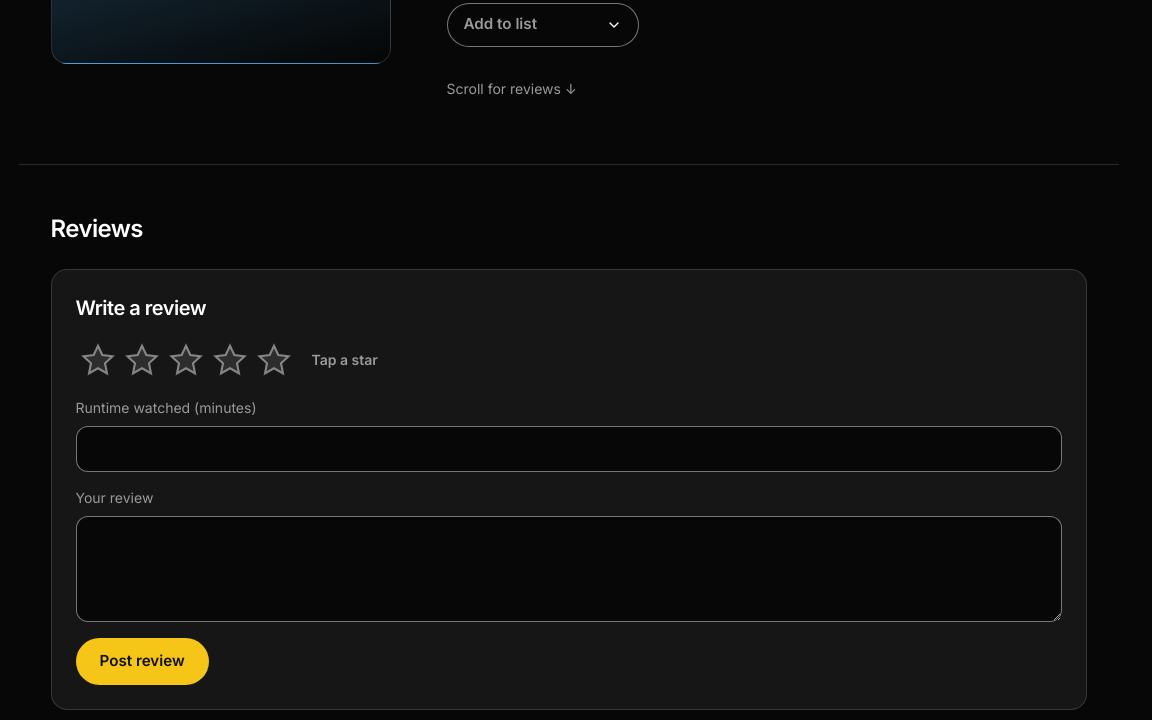
TitleDetail › posting a review replaces the empty state with the new review
The image size is (1152, 720).
(page scrolled)
Click the radio button named "5 stars" at (274, 360), box [256,342,292,378]
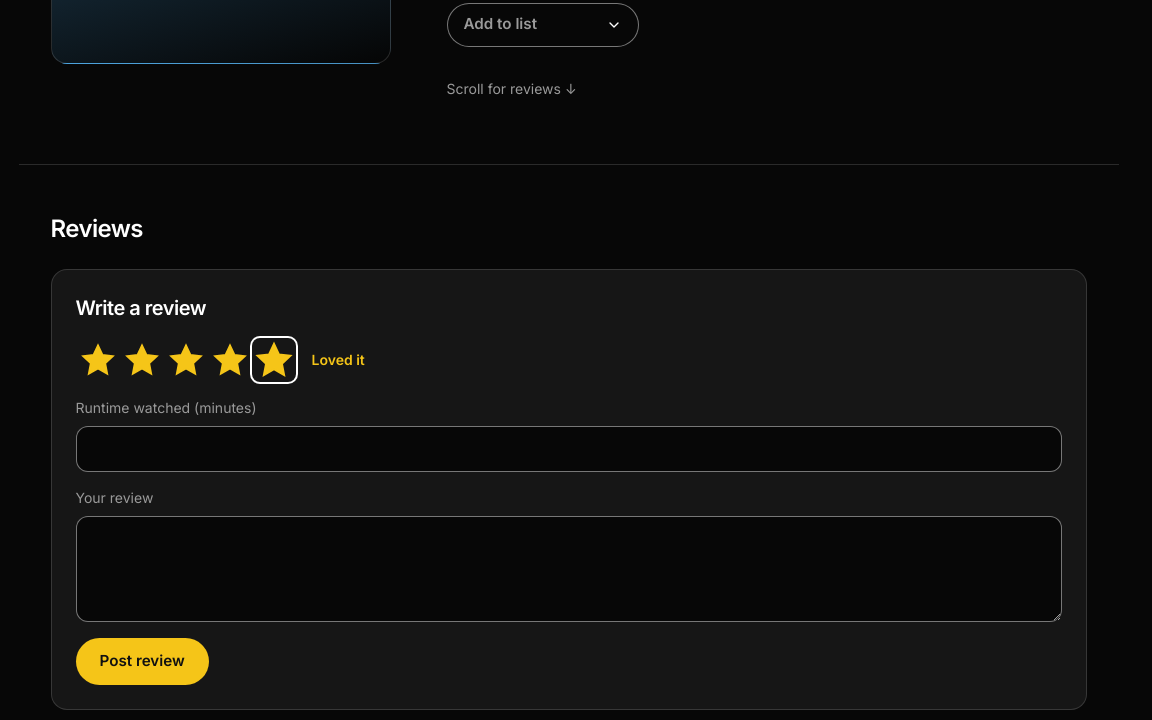
Type "A fresh take" into the text box labelled "Your review" at (568, 569), box [76,516,1062,622]
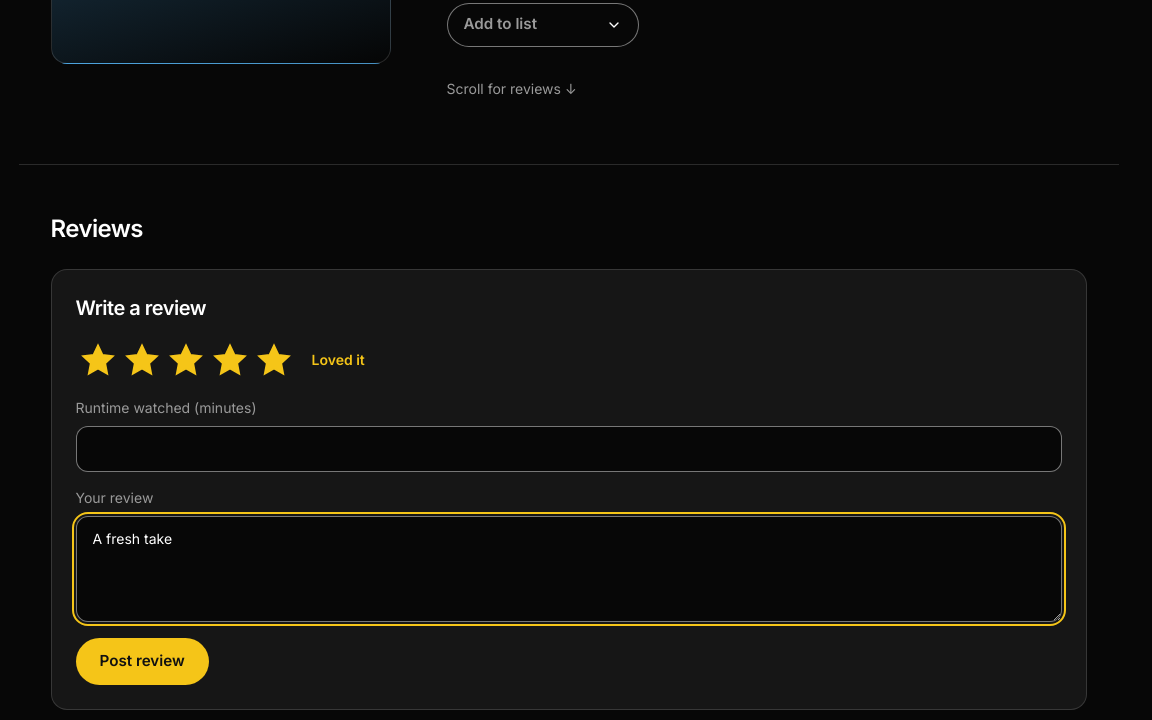
Type "3" into the field labelled "Runtime watched (minutes)" at (568, 449), box [76,426,1062,472]
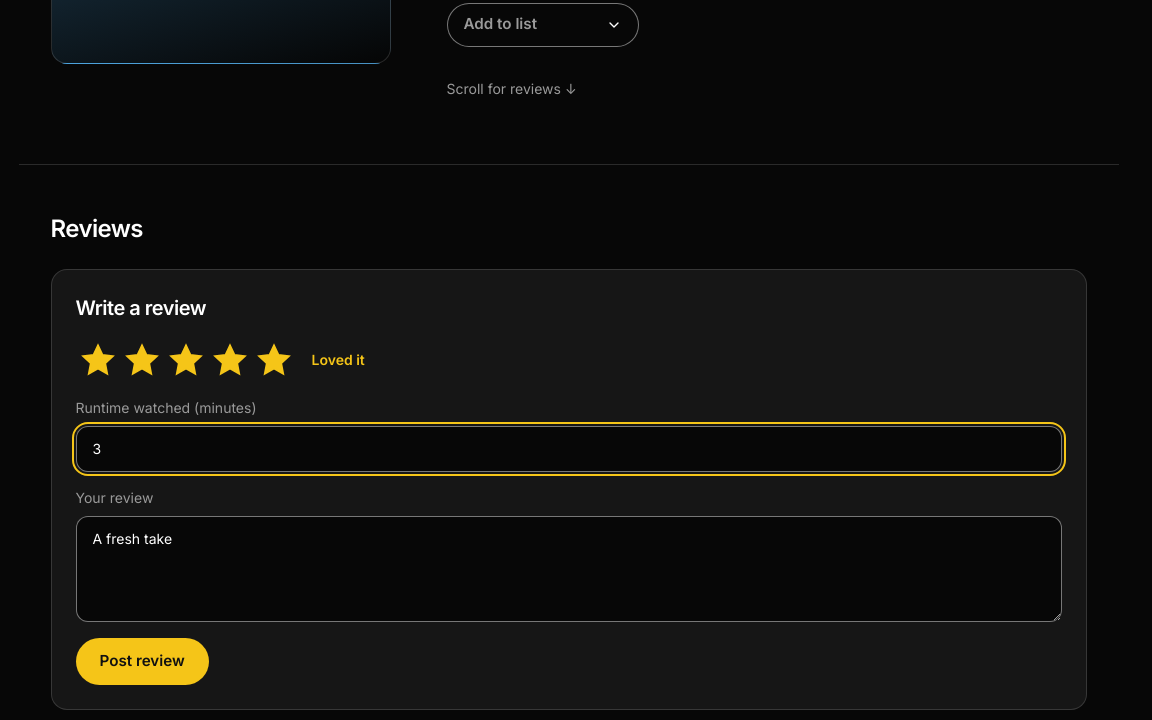
Click the button "Post review" at (142, 662), box [76,638,209,685]
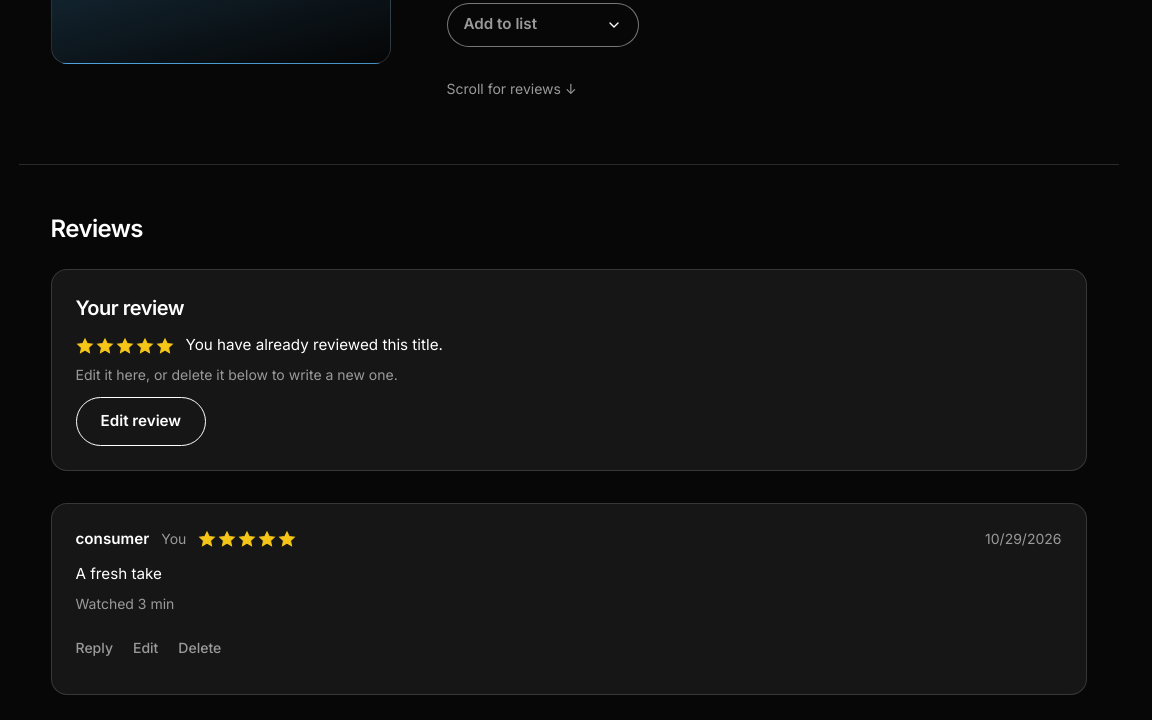
Now the text "A fresh take" is shown, box [76,564,162,583]
